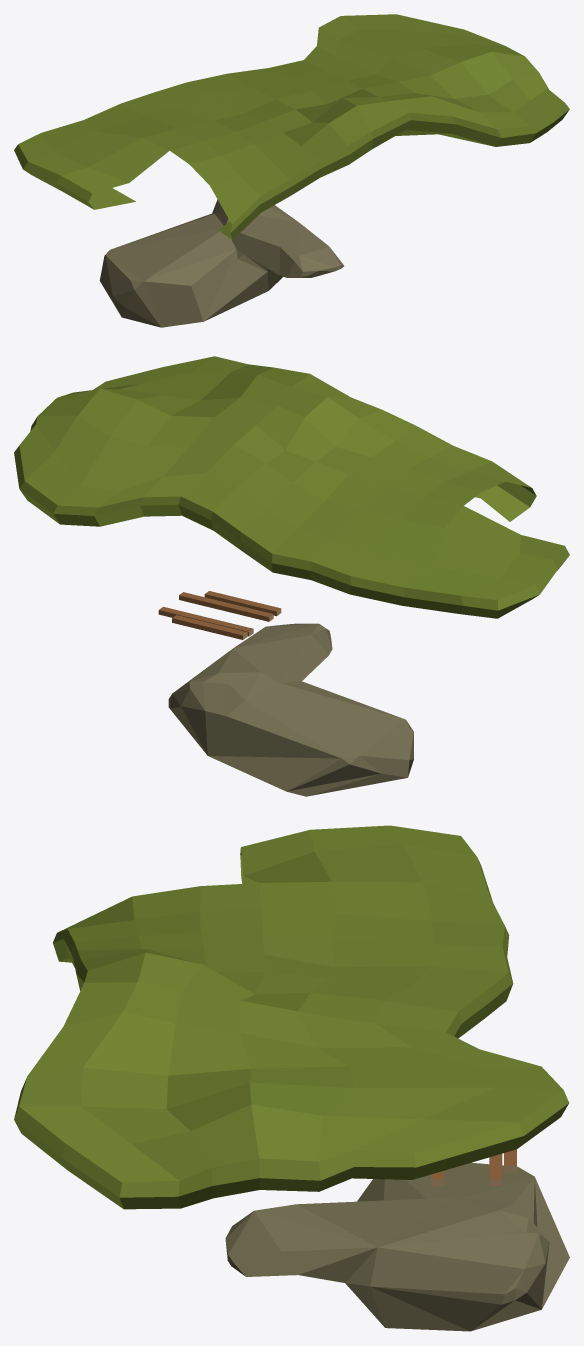
3 views of the same model, one above another, from view 1: azimuth 30°, elevation 25°; view 2: azimuth 150°, elevation 25°; view 3: azimuth 270°, elevation 25° (orthographic). The views are drawn at different scales.
Visible parts, largest first — view 1: Plane241_green2_0, Box962_rock2_0; view 2: Plane241_green2_0, Box962_rock2_0, Box15376_brown_0; view 3: Plane241_green2_0, Box962_rock2_0, Box15376_brown_0.
Boxes of the visible parts, bbox=[...] form: Plane241_green2_0: bbox=[14, 14, 569, 240]; Box962_rock2_0: bbox=[99, 199, 343, 327]; Plane241_green2_0: bbox=[14, 356, 569, 618]; Box962_rock2_0: bbox=[168, 623, 413, 796]; Box15376_brown_0: bbox=[158, 591, 280, 639]; Plane241_green2_0: bbox=[14, 825, 568, 1209]; Box962_rock2_0: bbox=[225, 1162, 569, 1331]; Box15376_brown_0: bbox=[431, 1149, 516, 1179].
Bounding box in the file's own units: 3308 × 1730 × 2058.
